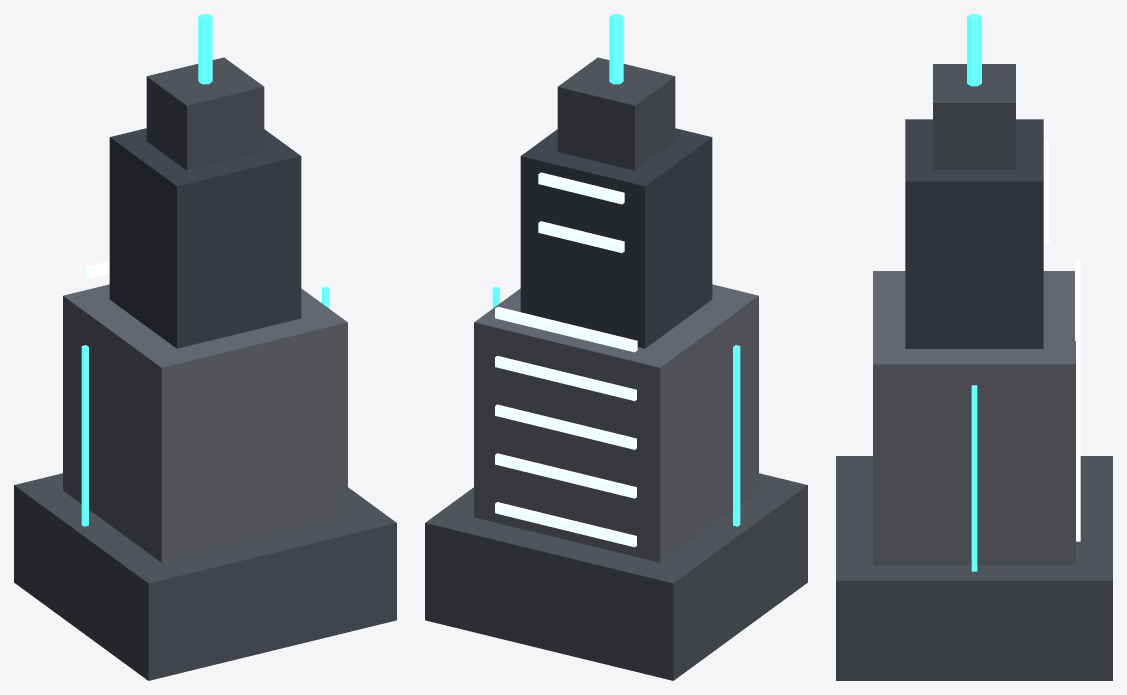
File: setback_tower.glb
The picture shows the model from 3 angles, left to right: view 1: azimuth 30°, elevation 25°; view 2: azimuth 150°, elevation 25°; view 3: azimuth 270°, elevation 25°; orthographic projection. The views are drawn at different scales.
Visible parts, largest first — view 1: setback_tower; view 2: setback_tower; view 3: setback_tower.
Part boxes in pixels (left/top/right/bottom): setback_tower: left=14, top=14, right=396, bottom=680; setback_tower: left=425, top=14, right=807, bottom=680; setback_tower: left=836, top=14, right=1112, bottom=680.
Bounding box in the file's own units: 3.2 × 7.2 × 3.
